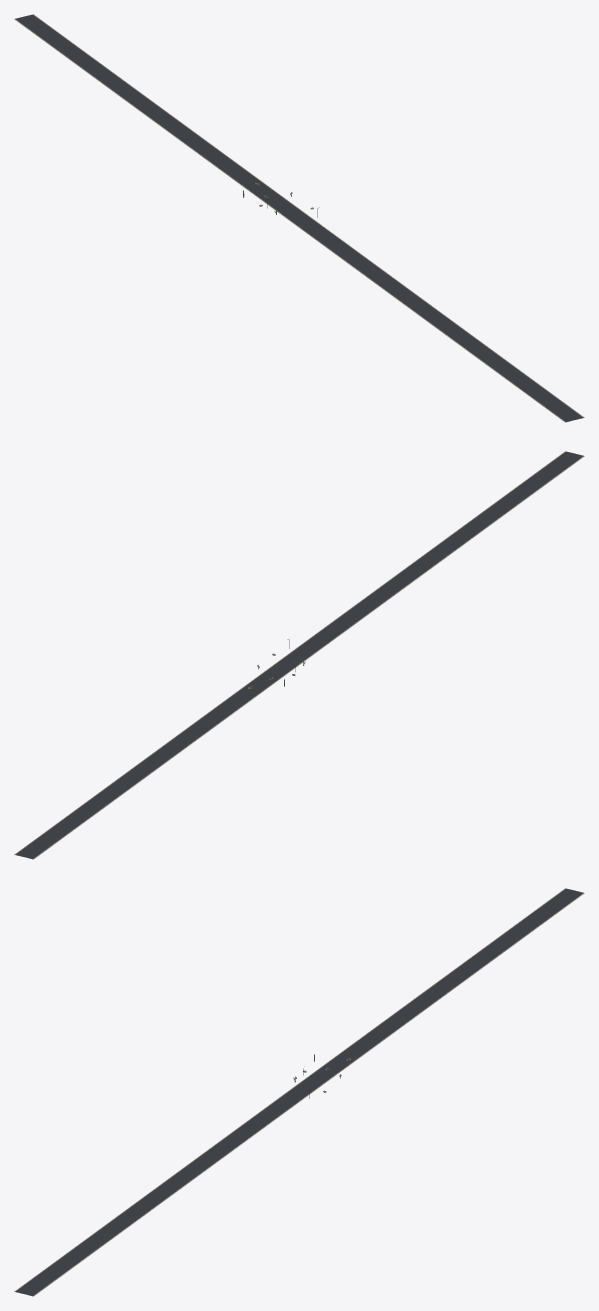
The model's file is desert_environment.glb.
3 views of the same model, one above another, from view 1: azimuth 30°, elevation 25°; view 2: azimuth 150°, elevation 25°; view 3: azimuth 330°, elevation 25° (orthographic).
Parts seen in each view (by area): view 1: RoadSurface, RoadShoulderLeft, RoadShoulderRight; view 2: RoadSurface, RoadShoulderLeft, RoadShoulderRight; view 3: RoadSurface, RoadShoulderRight, RoadShoulderLeft.
Part boxes in pixels (x1=…): RoadSurface: x1=15, y1=14, x2=583, y2=422; RoadShoulderLeft: x1=14, y1=19, x2=565, y2=422; RoadShoulderRight: x1=33, y1=14, x2=584, y2=417; RoadSurface: x1=15, y1=451, x2=583, y2=859; RoadShoulderLeft: x1=33, y1=456, x2=584, y2=859; RoadShoulderRight: x1=14, y1=451, x2=565, y2=854; RoadSurface: x1=15, y1=888, x2=583, y2=1296; RoadShoulderRight: x1=33, y1=893, x2=584, y2=1296; RoadShoulderLeft: x1=14, y1=888, x2=565, y2=1291.
Size of the model in its own units: 30.72 by 6.96 by 700.
